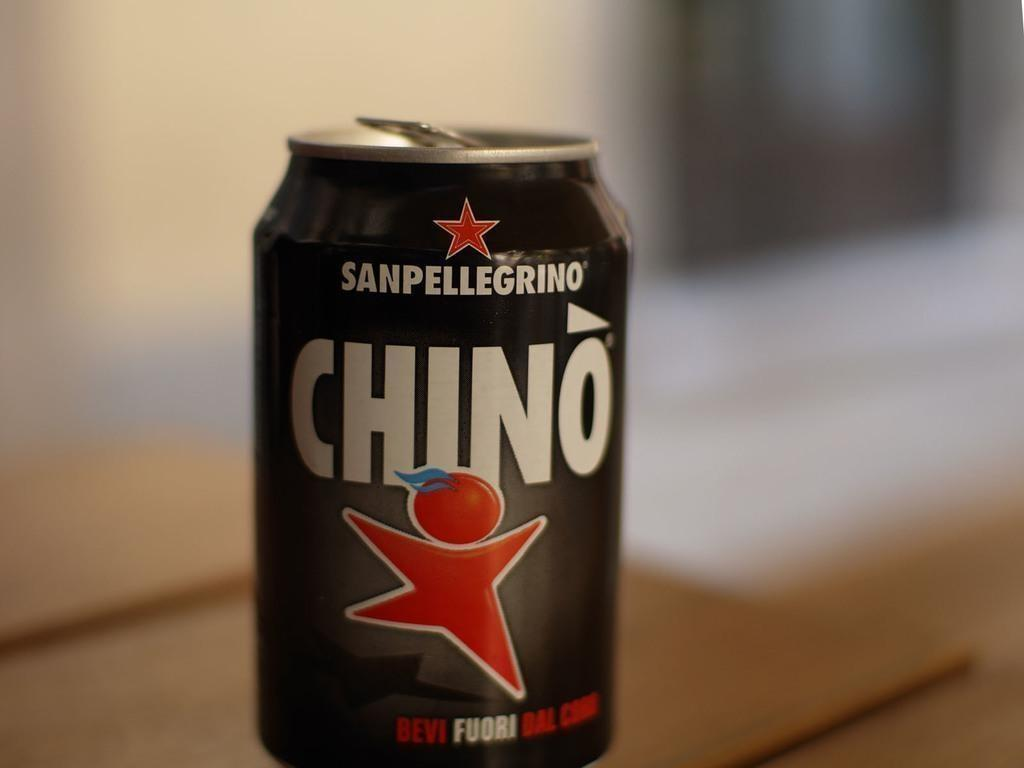tin can: (255, 115, 632, 768)
